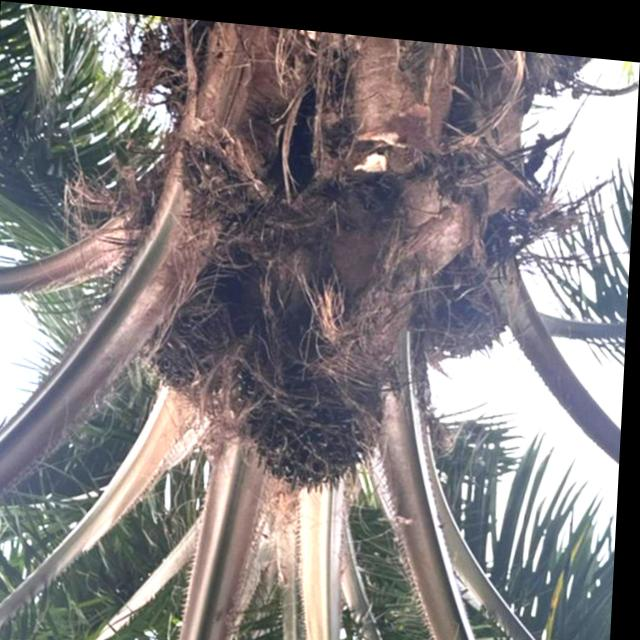unripe: (233, 355, 383, 500)
